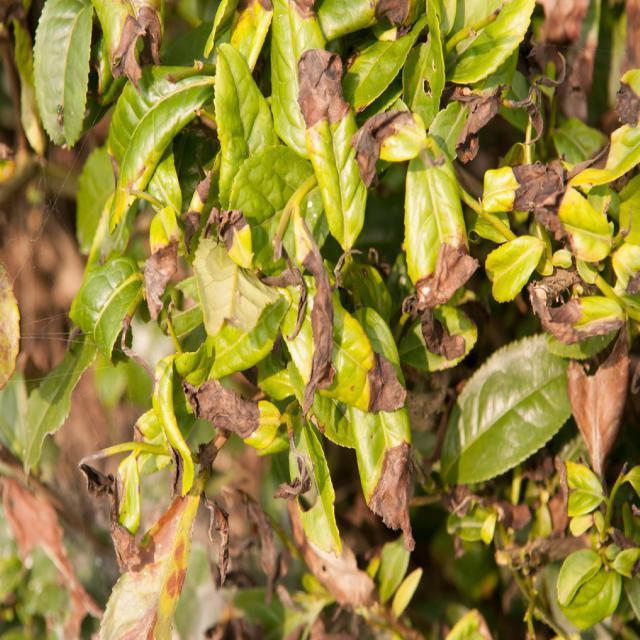Tea cloud leaf blight: (288, 224, 344, 390), (71, 433, 141, 557), (179, 370, 286, 447), (348, 438, 416, 540), (538, 273, 619, 351), (127, 213, 195, 290), (407, 221, 461, 313), (368, 102, 431, 166), (503, 152, 559, 223), (293, 50, 346, 122), (359, 353, 407, 422)
